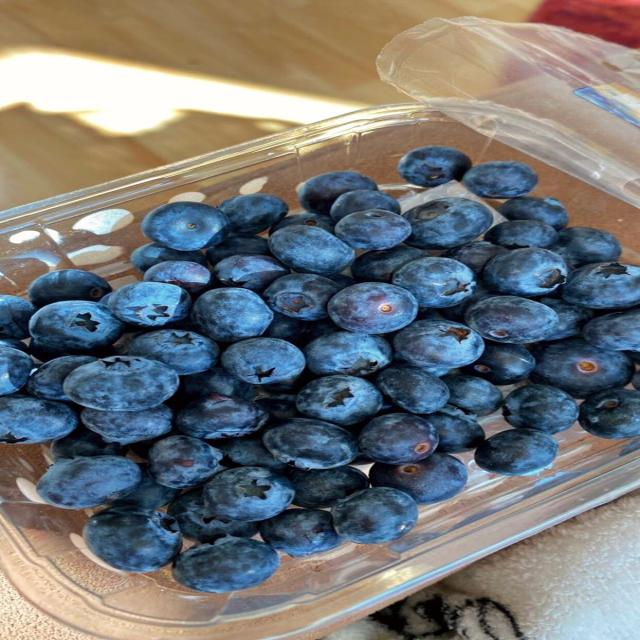blueberry: (83, 507, 182, 572), (64, 356, 179, 411), (173, 536, 279, 593), (531, 339, 633, 398), (37, 456, 141, 509), (30, 301, 124, 355), (167, 488, 258, 542), (203, 467, 293, 521), (370, 453, 467, 503), (332, 487, 418, 543), (263, 418, 356, 469), (328, 283, 418, 333), (405, 198, 493, 249), (394, 320, 484, 369), (465, 296, 558, 343), (192, 288, 273, 341), (297, 375, 382, 425), (142, 202, 230, 250), (482, 248, 567, 297), (269, 226, 354, 275), (392, 258, 475, 308), (128, 330, 219, 375), (176, 395, 268, 438), (260, 509, 344, 556), (358, 414, 438, 463), (148, 436, 222, 488), (475, 429, 558, 475), (304, 332, 392, 375), (221, 338, 305, 383), (503, 384, 578, 434), (0, 396, 78, 444), (108, 282, 191, 326), (263, 274, 341, 320), (81, 405, 172, 444), (298, 171, 377, 215), (562, 263, 639, 308), (376, 366, 449, 413), (290, 466, 368, 508), (28, 269, 111, 307), (112, 464, 181, 509), (27, 356, 96, 401), (334, 210, 411, 250), (398, 146, 471, 187), (463, 344, 535, 385), (579, 389, 639, 438), (214, 254, 290, 292), (351, 246, 428, 283), (426, 405, 484, 453), (217, 436, 291, 473), (220, 194, 288, 234), (553, 227, 621, 267), (462, 162, 537, 198), (180, 367, 253, 402), (441, 375, 502, 415), (438, 280, 495, 322), (51, 428, 125, 460), (583, 309, 639, 350), (539, 298, 594, 339), (499, 197, 567, 230), (330, 190, 401, 221), (144, 261, 211, 293), (130, 243, 206, 271), (485, 220, 557, 249), (443, 241, 507, 273), (205, 235, 269, 265), (128, 428, 180, 459), (0, 348, 34, 395), (0, 295, 36, 339), (263, 312, 308, 344), (270, 213, 334, 234), (254, 371, 312, 394), (27, 339, 77, 362), (394, 357, 451, 377), (256, 394, 298, 420), (304, 318, 341, 343), (0, 337, 29, 353), (329, 274, 356, 288), (625, 351, 639, 364), (632, 371, 639, 390)
